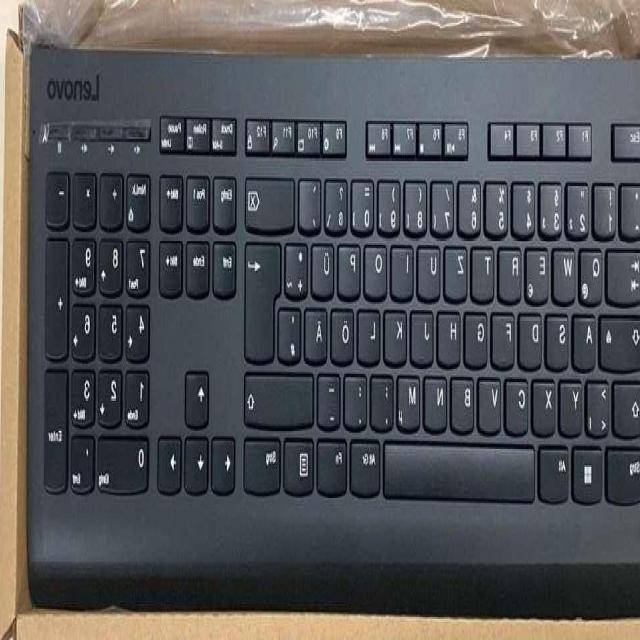0: (353, 172, 377, 231)
1: (596, 177, 619, 234)
2: (568, 177, 592, 234)
3: (542, 175, 566, 232)
4: (514, 176, 538, 232)
5: (488, 175, 512, 232)
6: (460, 173, 484, 230)
7: (433, 175, 457, 232)
8: (407, 173, 431, 232)
9: (380, 173, 404, 230)
a: (575, 309, 598, 366)
accent: (301, 171, 324, 227)
ae: (307, 301, 330, 358)
alt-left: (541, 441, 572, 500)
altgr-right: (353, 433, 384, 492)
b: (453, 371, 477, 428)
c: (507, 373, 531, 430)
caret: (622, 176, 640, 232)
comma: (373, 367, 397, 426)
d: (522, 305, 545, 364)
del: (247, 170, 297, 227)
e: (528, 242, 552, 299)
enter: (247, 234, 284, 358)
f: (493, 306, 517, 363)
g: (467, 306, 491, 363)
h: (440, 304, 464, 361)
hash: (281, 301, 304, 358)
i: (393, 239, 416, 296)
j: (413, 304, 436, 360)
k: (387, 302, 410, 359)
keyboard: (28, 64, 640, 560)
l: (360, 302, 383, 359)
less: (588, 374, 612, 434)
m: (400, 369, 424, 426)
minus: (320, 368, 344, 425)
n: (426, 369, 450, 426)
o: (367, 237, 391, 294)
oe: (334, 302, 357, 359)
p: (340, 237, 363, 294)
plus: (287, 234, 311, 294)
point: (346, 368, 370, 425)
q: (582, 242, 606, 301)
r: (501, 242, 525, 298)
s: (549, 307, 572, 366)
shift-left: (616, 376, 640, 433)
shift-lock: (601, 309, 640, 368)
shift-right: (246, 364, 317, 423)
space: (385, 435, 539, 497)
ss: (327, 172, 351, 229)
strg-left: (608, 441, 640, 500)
strg-right: (245, 431, 285, 490)
t: (474, 240, 498, 296)
tab: (609, 242, 640, 301)
u: (421, 239, 444, 296)
ue: (314, 235, 337, 294)
v: (480, 371, 504, 430)
w: (555, 240, 579, 299)
x: (535, 372, 559, 431)
y: (562, 374, 585, 431)
z: (446, 239, 470, 296)
